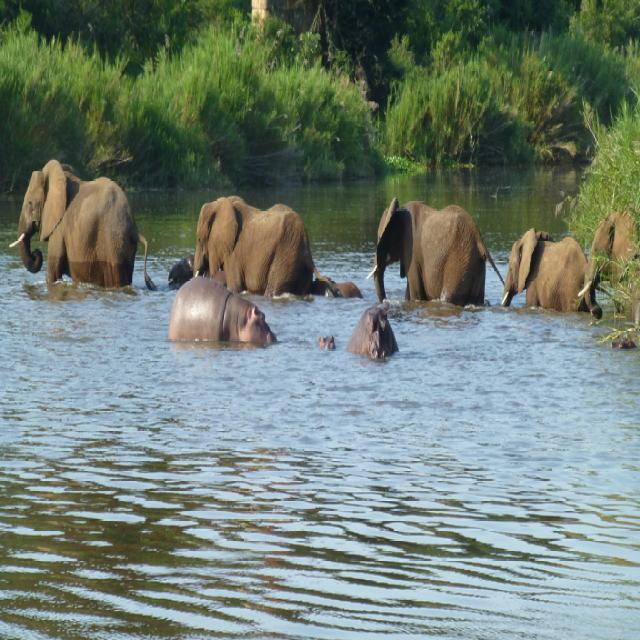elephant: (12, 147, 148, 296), (366, 196, 510, 308), (190, 210, 300, 298), (495, 224, 599, 316), (168, 276, 274, 351), (584, 204, 640, 320), (348, 303, 397, 357), (308, 272, 356, 299), (166, 255, 192, 292), (318, 328, 334, 354)
